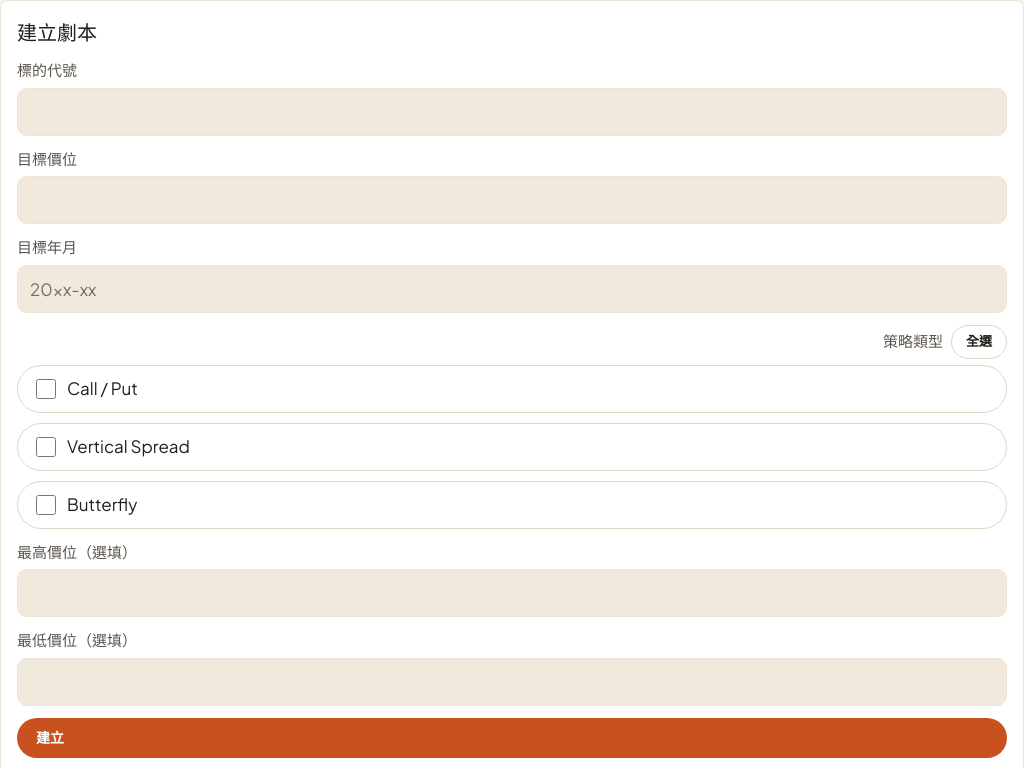
建立表單的畫面 › 驗證沒過就不送出，並顯示訊息
Click the button "建立": x=50, y=737 [17,718,1007,758]
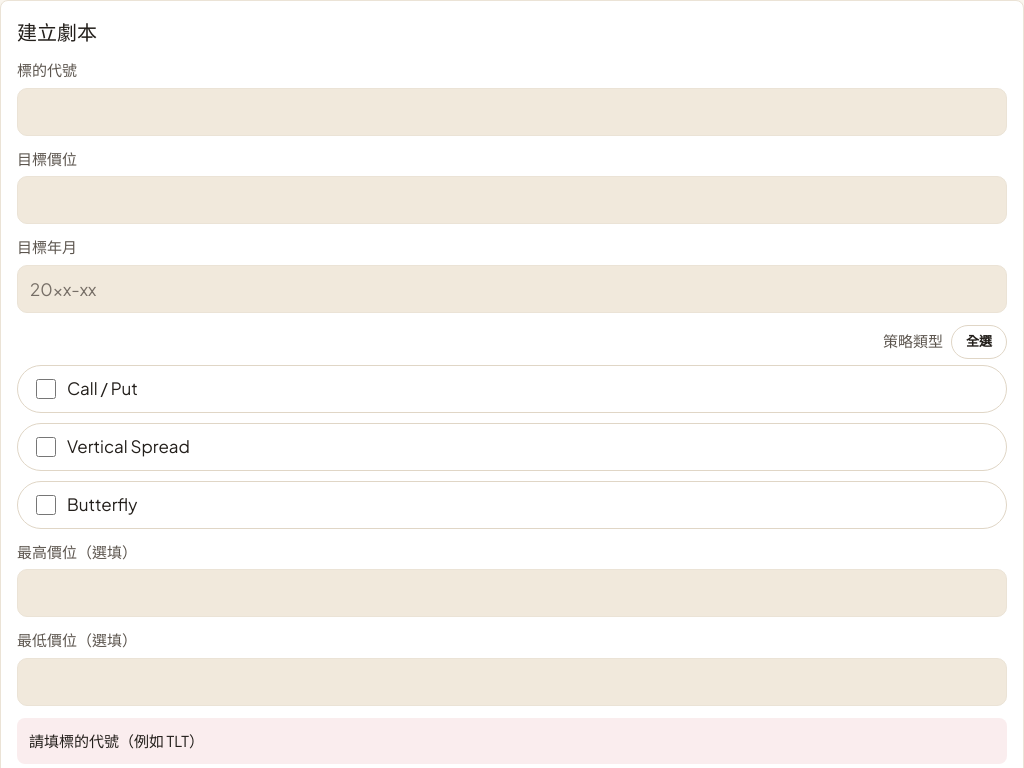
Expected: the message shows "請填標的代號", [29,730,204,750]
